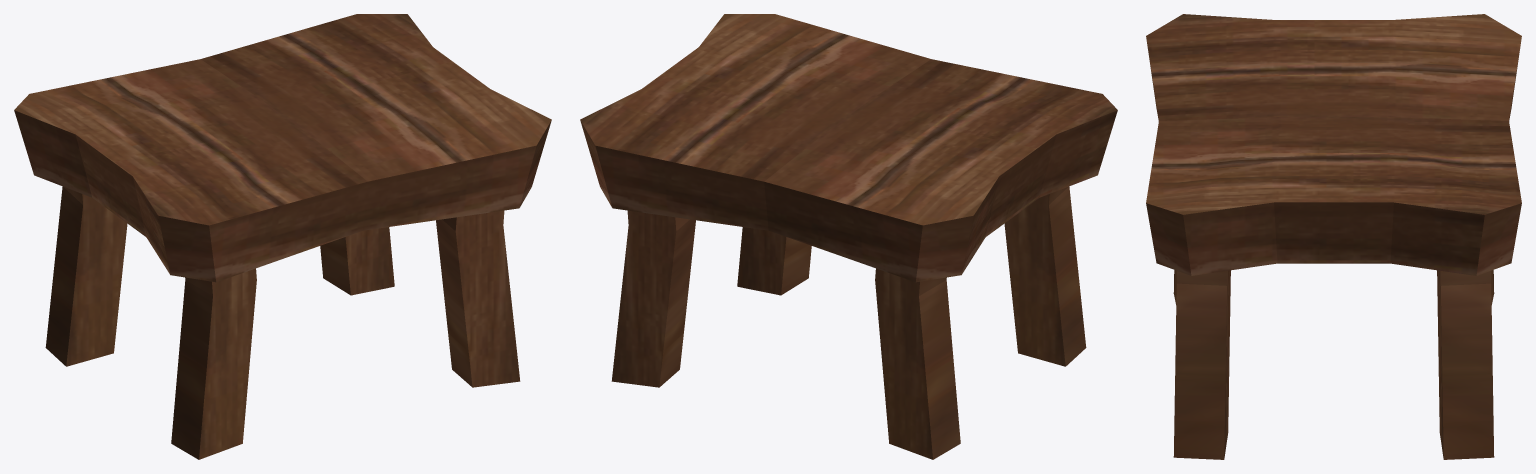
Rendered from Stool_01.glb.
The picture shows the model from 3 angles, left to right: view 1: azimuth 30°, elevation 25°; view 2: azimuth 150°, elevation 25°; view 3: azimuth 270°, elevation 25°; orthographic projection. The views are drawn at different scales.
Visible parts, largest first — view 1: Stool_01; view 2: Stool_01; view 3: Stool_01.
Part boxes in pixels (bbox=[...]): Stool_01: bbox=[14, 14, 551, 459]; Stool_01: bbox=[580, 14, 1117, 459]; Stool_01: bbox=[1146, 14, 1521, 459].
Size of the model in its own units: 1.59 by 0.9791 by 1.26.
Materials: 1 (1 with a texture image).
